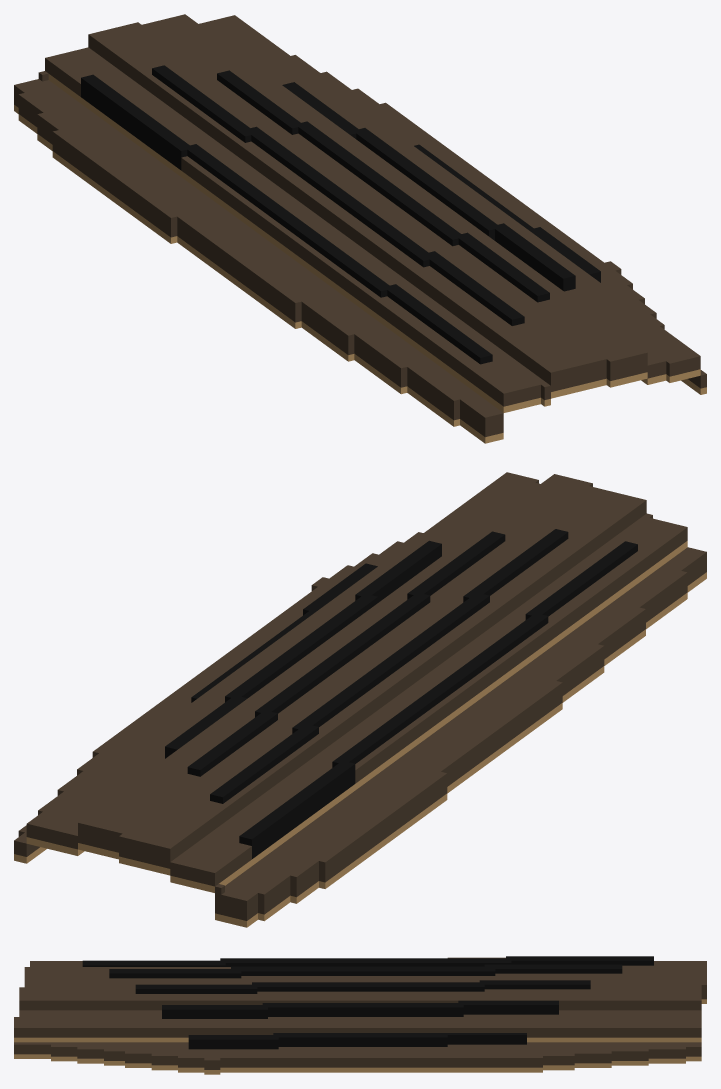
The model's file is willowbark.glb.
3 views of the same model, one above another, from view 1: azimuth 30°, elevation 25°; view 2: azimuth 150°, elevation 25°; view 3: azimuth 270°, elevation 25° (orthographic). The views are drawn at different scales.
Parts seen in each view (by area): view 1: willowbark:compound; view 2: willowbark:compound; view 3: willowbark:compound.
Boxes of the visible parts, x1,y1,x2,y2 form: willowbark:compound: [14, 14, 706, 443]; willowbark:compound: [14, 472, 706, 927]; willowbark:compound: [14, 956, 706, 1074].
Bounding box in the file's own units: 0.092 × 0.02 × 0.262.
